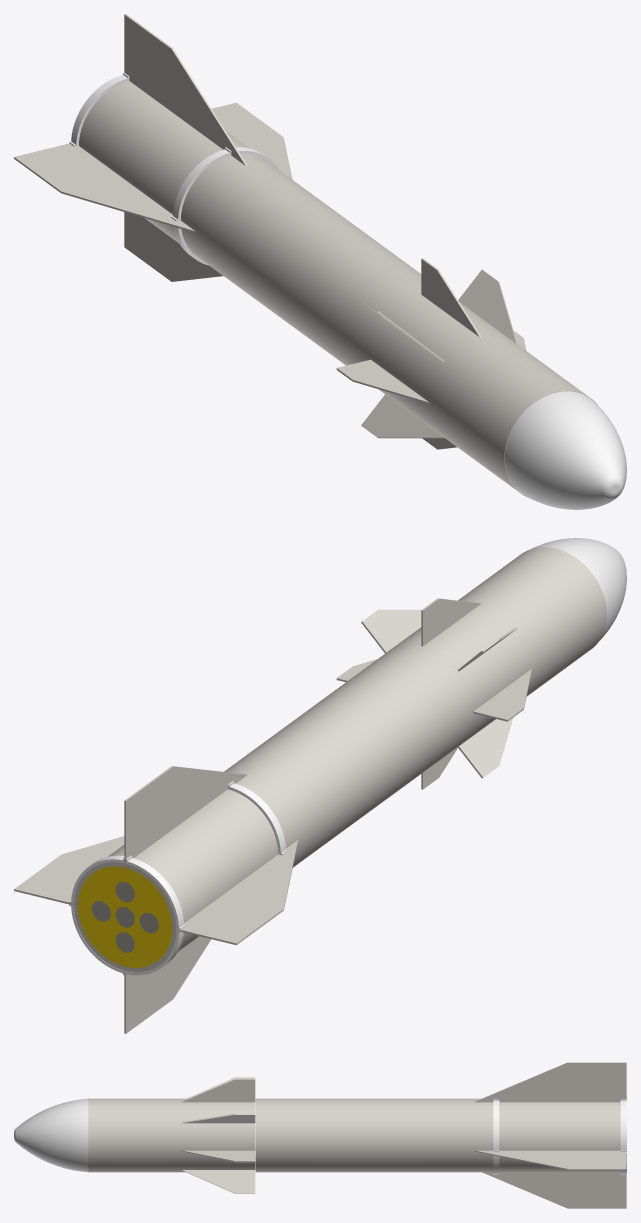
File: SpinX.gltf
3 views of the same model, one above another, from view 1: azimuth 30°, elevation 25°; view 2: azimuth 150°, elevation 25°; view 3: azimuth 270°, elevation 25° (orthographic). The views are drawn at different scales.
Parts seen in each view (by area): view 1: Part 7, Part 24, Part 26, Part 39, Part 35; view 2: Part 7, Part 24, Part 40, Part 26, Part 39, Part 35; view 3: Part 7, Part 24, Part 26, Part 41, Part 36.
Boxes of the visible parts, bbox=[...] form: Part 7: bbox=[14, 14, 421, 392]; Part 24: bbox=[336, 258, 597, 497]; Part 26: bbox=[504, 391, 626, 509]; Part 39: bbox=[69, 72, 129, 146]; Part 35: bbox=[171, 147, 231, 221]; Part 7: bbox=[14, 645, 472, 1033]; Part 24: bbox=[336, 547, 606, 789]; Part 40: bbox=[78, 866, 172, 967]; Part 26: bbox=[531, 538, 626, 640]; Part 39: bbox=[69, 855, 185, 975]; Part 35: bbox=[228, 781, 287, 855]; Part 7: bbox=[256, 1062, 626, 1208]; Part 24: bbox=[88, 1077, 255, 1193]; Part 26: bbox=[14, 1098, 88, 1172]; Part 41: bbox=[620, 1099, 626, 1151]; Part 36: bbox=[493, 1099, 499, 1151].
Size of the model in its own units: 0.1298 by 0.1298 by 0.4953.
